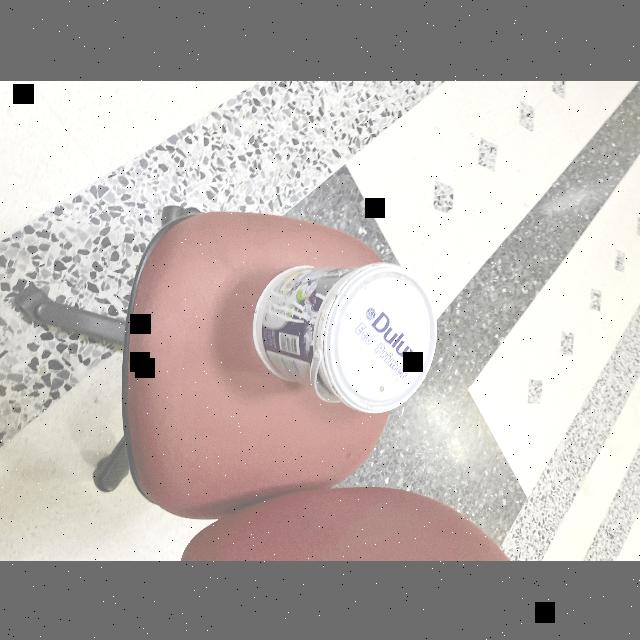paint_bucket: (248, 257, 440, 415)
